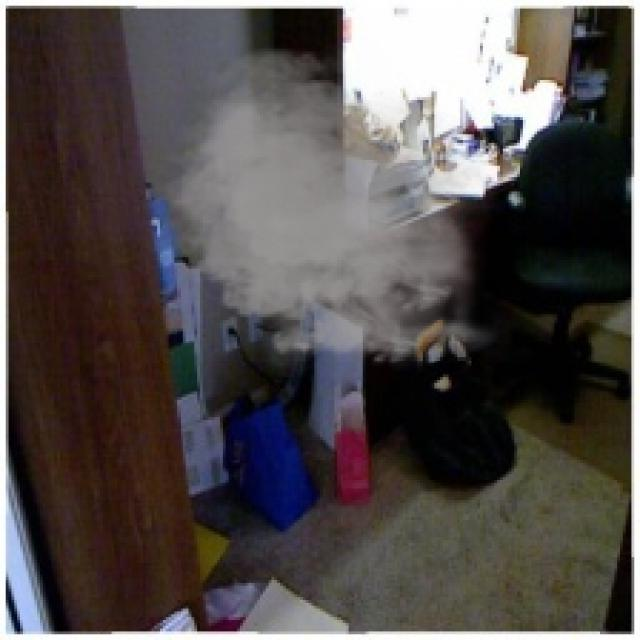smoke: (154, 37, 506, 380)
